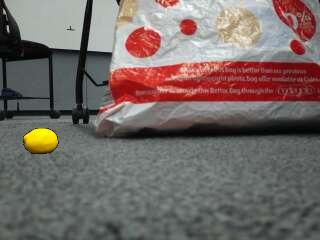lemon: (24, 128, 58, 153)
